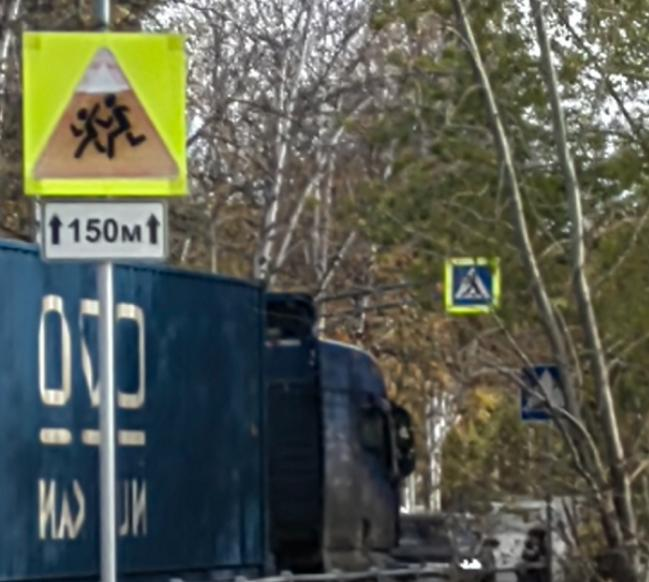obstructed_road_sign: (444, 256, 500, 313), (521, 364, 567, 422)
road_sign: (22, 31, 187, 198), (44, 203, 166, 259)
